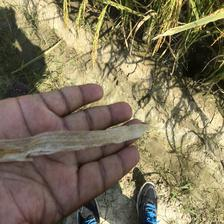2 BacterialBlight: (15, 124, 147, 147)
